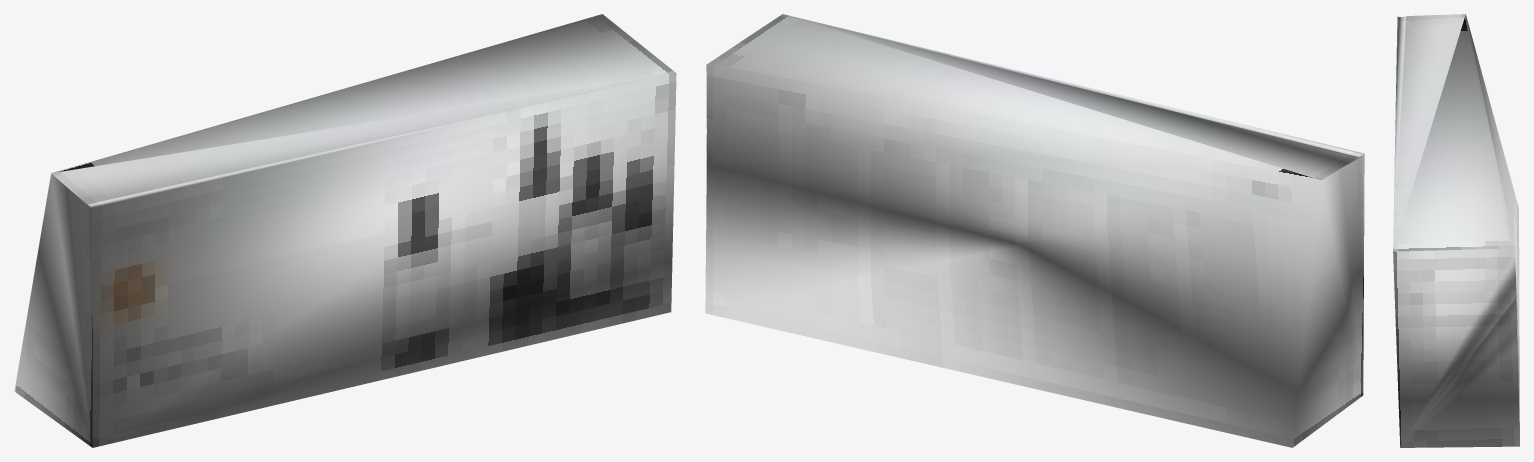
The model's file is Perricone_MD_Best_of_Perricone_7Piece_Collection_MEGsO6GIsyL-low.glb.
3 views of the same model, side by side, from view 1: azimuth 30°, elevation 25°; view 2: azimuth 150°, elevation 25°; view 3: azimuth 270°, elevation 25° (orthographic). The views are drawn at different scales.
Visible parts, largest first — view 1: Perricone_MD_Best_of_Perricone_7Piece_Collection_MEGsO6GIsyL; view 2: Perricone_MD_Best_of_Perricone_7Piece_Collection_MEGsO6GIsyL; view 3: Perricone_MD_Best_of_Perricone_7Piece_Collection_MEGsO6GIsyL.
Part boxes in pixels (x1=…): Perricone_MD_Best_of_Perricone_7Piece_Collection_MEGsO6GIsyL: x1=14, y1=14, x2=676, y2=447; Perricone_MD_Best_of_Perricone_7Piece_Collection_MEGsO6GIsyL: x1=705, y1=14, x2=1364, y2=447; Perricone_MD_Best_of_Perricone_7Piece_Collection_MEGsO6GIsyL: x1=1393, y1=14, x2=1519, y2=447.
Bounding box in the file's own units: 0.2953 × 0.1209 × 0.0681.
1 material, 1 textured.
